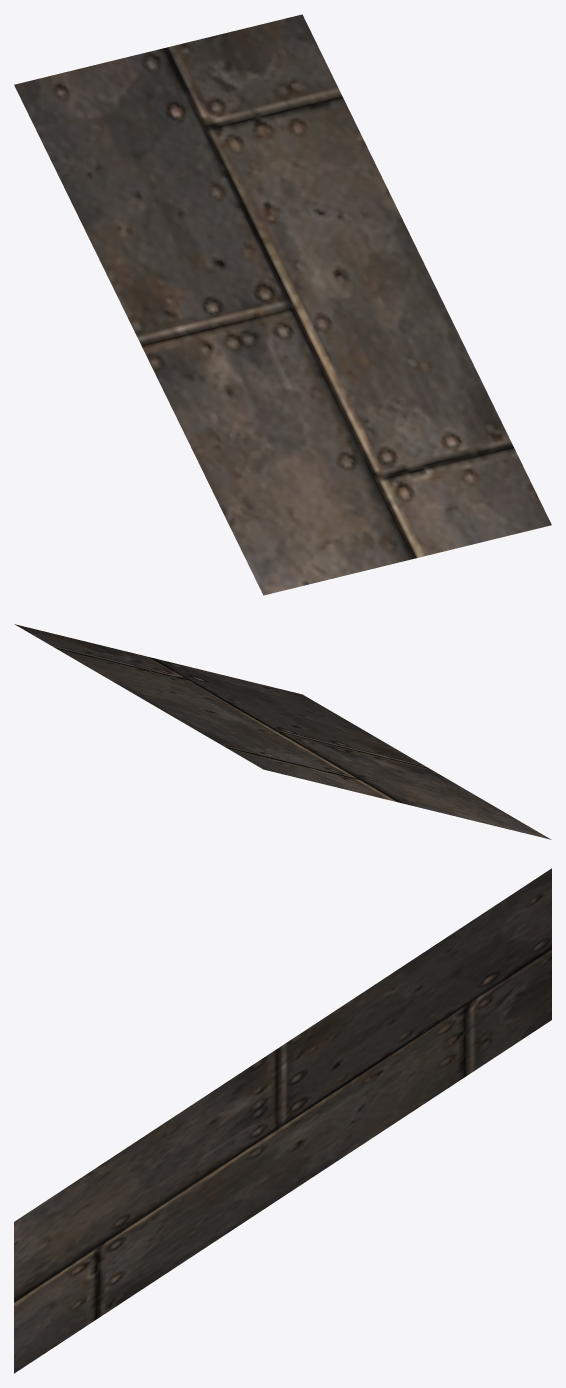
File: roof_metal_4.fbx
The picture shows the model from 3 angles, top to bottom: view 1: azimuth 30°, elevation 25°; view 2: azimuth 150°, elevation 25°; view 3: azimuth 270°, elevation 25°; orthographic projection. The views are drawn at different scales.
Visible parts, largest first — view 1: roof_metal_4; view 2: roof_metal_4; view 3: roof_metal_4.
Part boxes in pixels (x1,y1,x2,y2): roof_metal_4: [14, 14, 551, 595]; roof_metal_4: [14, 624, 551, 839]; roof_metal_4: [14, 868, 551, 1373].
Size of the model in its own units: 3 by 3.26 by 4.49.
